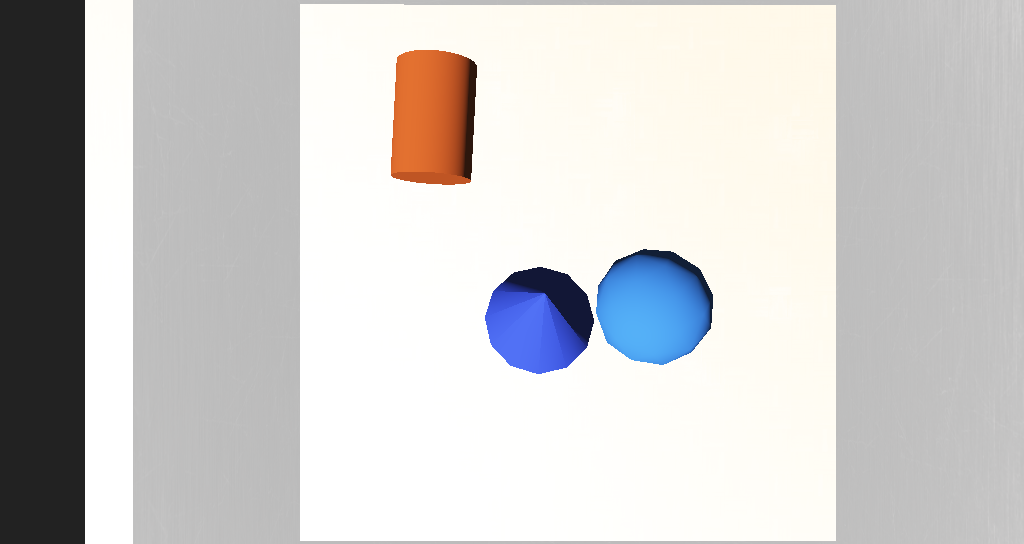cone: (404, 184, 458, 236)
cylinder: (451, 253, 519, 310)
sphere: (522, 260, 583, 303)
